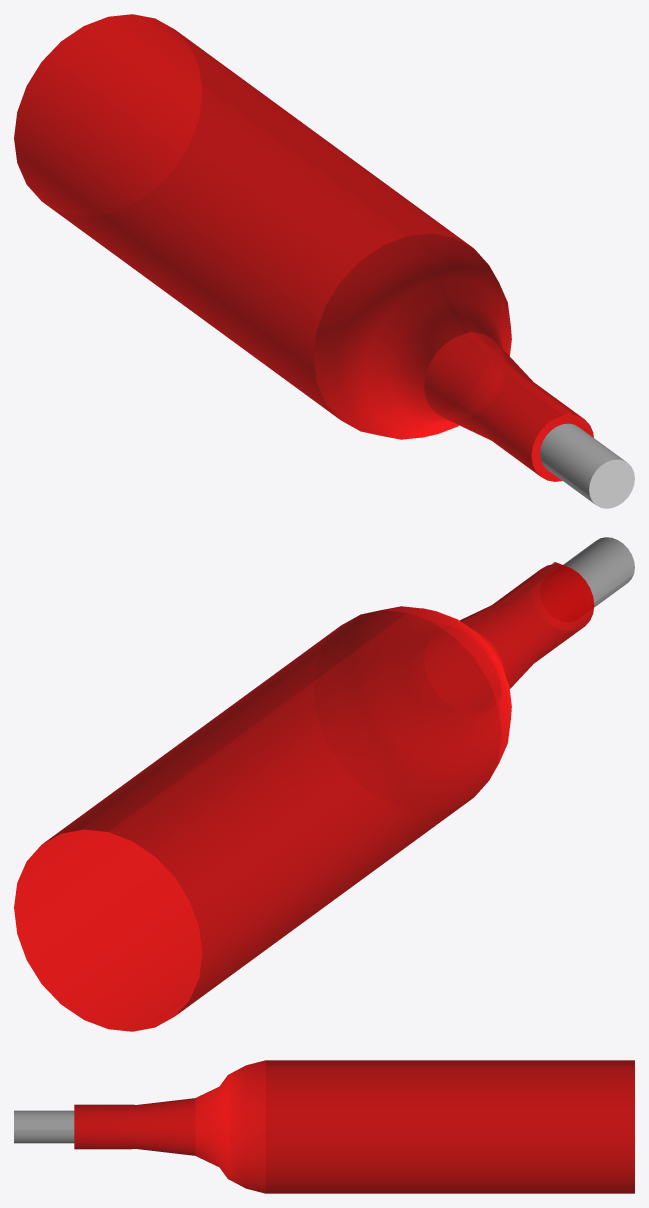
File: model_align.obj
The picture shows the model from 3 angles, top to bottom: view 1: azimuth 30°, elevation 25°; view 2: azimuth 150°, elevation 25°; view 3: azimuth 270°, elevation 25°; orthographic projection. The views are drawn at different scales.
Parts seen in each view (by area): view 1: mesh1_mesh1-geometry, mesh2_mesh2-geometry; view 2: mesh1_mesh1-geometry, mesh2_mesh2-geometry; view 3: mesh1_mesh1-geometry, mesh2_mesh2-geometry.
Boxes of the visible parts, left/top/right/bottom form: mesh1_mesh1-geometry: left=14, top=14, right=593, bottom=481; mesh2_mesh2-geometry: left=540, top=423, right=634, bottom=508; mesh1_mesh1-geometry: left=14, top=562, right=594, bottom=1031; mesh2_mesh2-geometry: left=540, top=537, right=634, bottom=619; mesh1_mesh1-geometry: left=74, top=1060, right=634, bottom=1193; mesh2_mesh2-geometry: left=14, top=1110, right=74, bottom=1143.
Bounding box in the file's own units: 0.0449 × 0.0449 × 0.2082.
